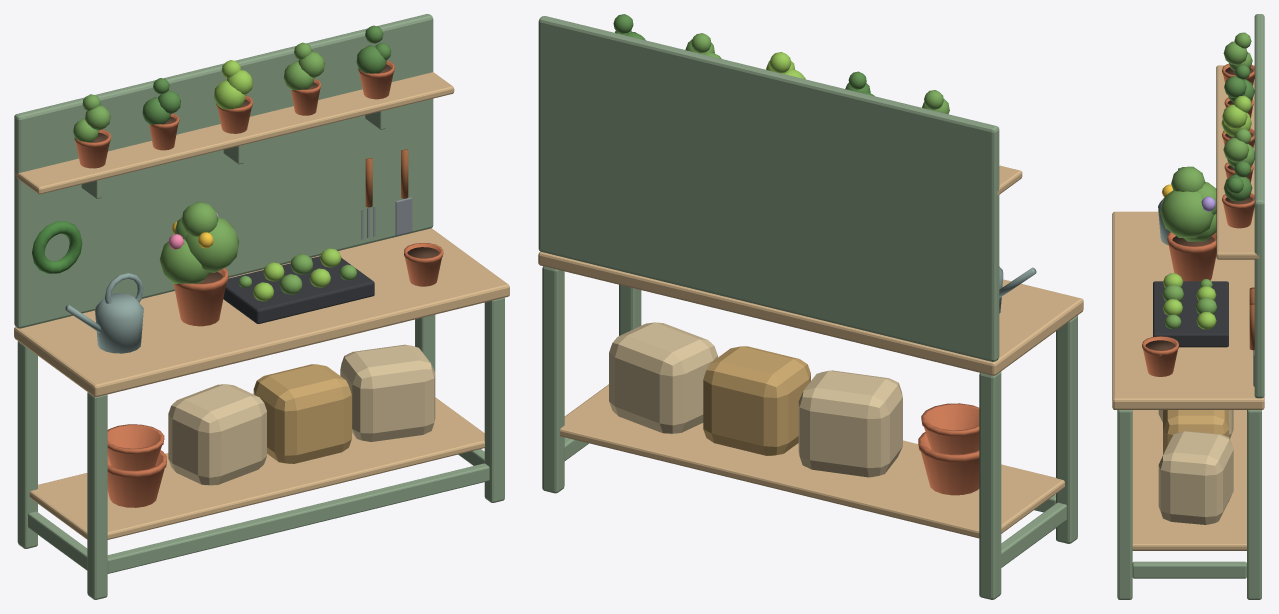
The model's file is pottingBench.glb.
The picture shows the model from 3 angles, left to right: view 1: azimuth 30°, elevation 25°; view 2: azimuth 150°, elevation 25°; view 3: azimuth 270°, elevation 25°; orthographic projection. The views are drawn at different scales.
Visible parts, largest first — view 1: body; view 2: body; view 3: body.
Part boxes in pixels (x1,y1,x2,y2): body: (14,14,509,599); body: (538,14,1083,599); body: (1112,14,1264,599).
Bounding box in the file's own units: 1.76 × 1.78 × 0.6.
